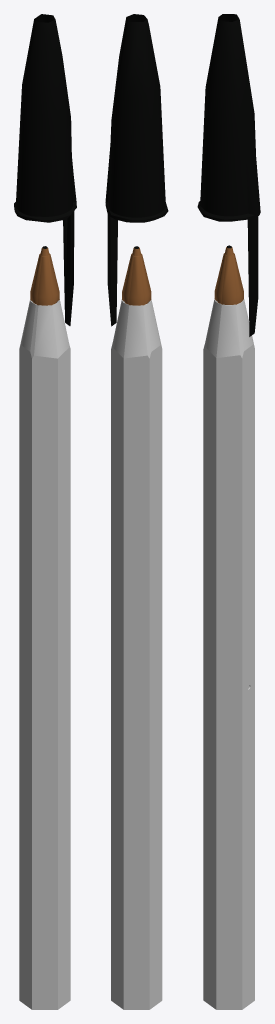
File: pen.glb
The picture shows the model from 3 angles, left to right: view 1: azimuth 30°, elevation 25°; view 2: azimuth 150°, elevation 25°; view 3: azimuth 330°, elevation 25°; orthographic projection.
Parts seen in each view (by area): view 1: Object_4, Object_6, Object_15; view 2: Object_4, Object_6, Object_15; view 3: Object_4, Object_6, Object_15.
Part boxes in pixels (bbox=[...]): Object_4: bbox=[19, 299, 70, 1009]; Object_6: bbox=[14, 14, 76, 325]; Object_15: bbox=[30, 253, 59, 305]; Object_4: bbox=[111, 299, 162, 1009]; Object_6: bbox=[105, 14, 168, 326]; Object_15: bbox=[122, 253, 151, 305]; Object_4: bbox=[203, 298, 254, 1009]; Object_6: bbox=[197, 14, 260, 336]; Object_15: bbox=[214, 253, 243, 304].
Size of the model in its own units: 2.58 by 42.13 by 2.44.
